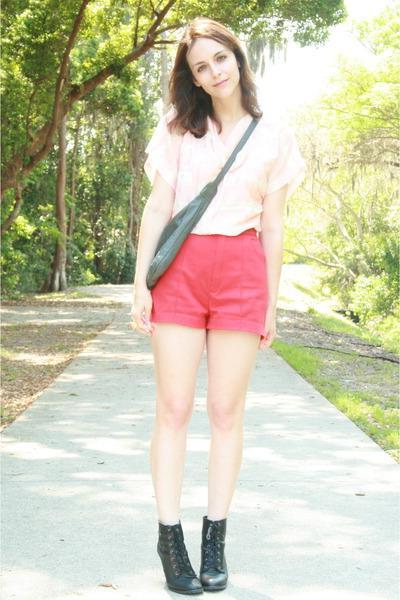Shorts: (148, 228, 268, 338)
short sleeve shirt: (147, 109, 302, 237)
